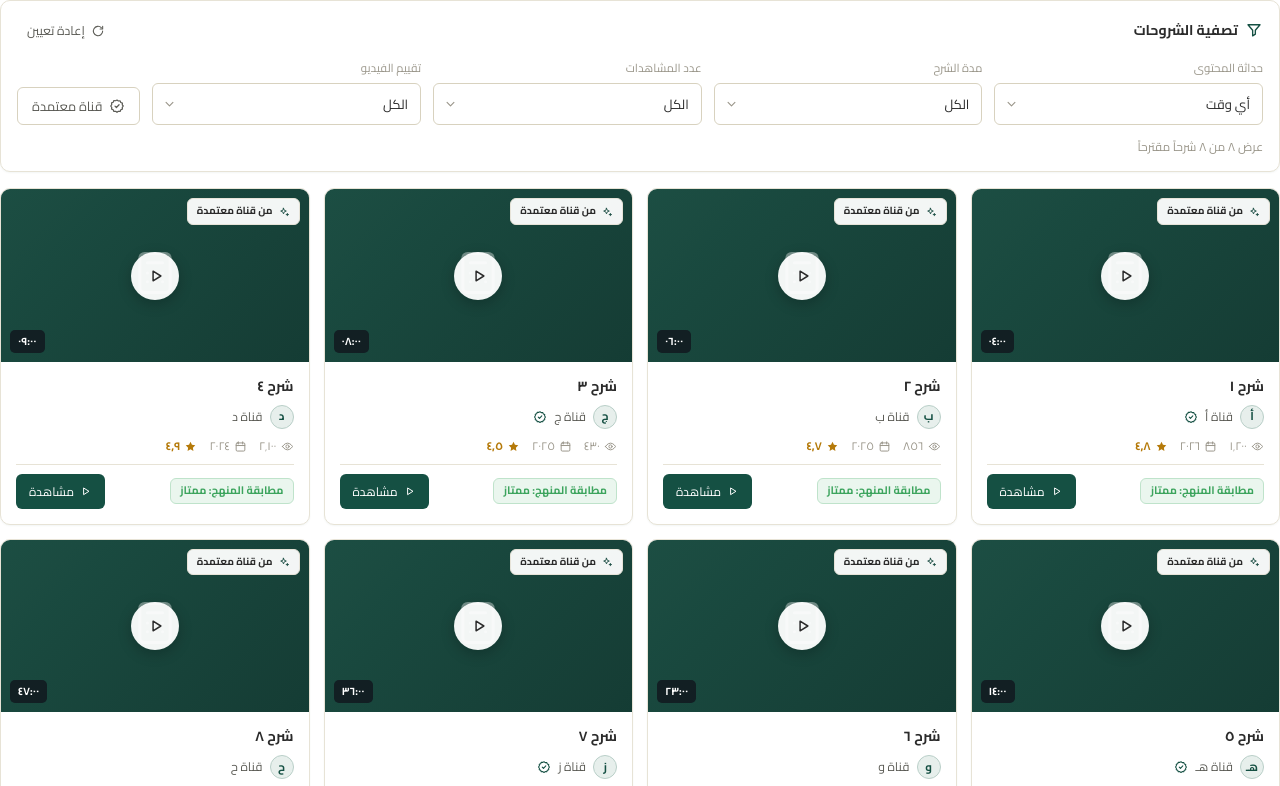
Test: resetting filters restores every card
The image size is (1280, 786).
Select "أقل من ١٠ دقائق" in the dropdown labelled "مدة الشرح" at (848, 104), box [714,83,982,125]
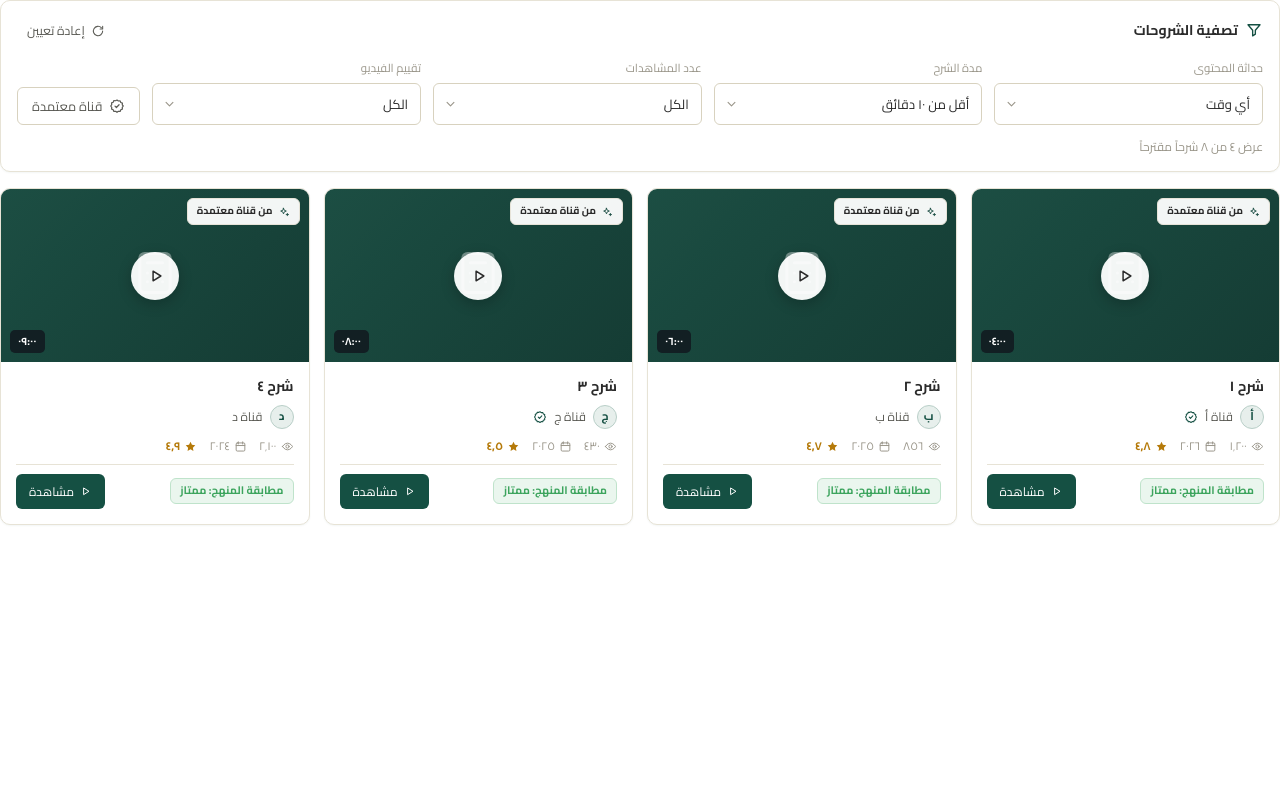
Click the button "إعادة تعيين" at (66, 30), box [17,15,115,46]
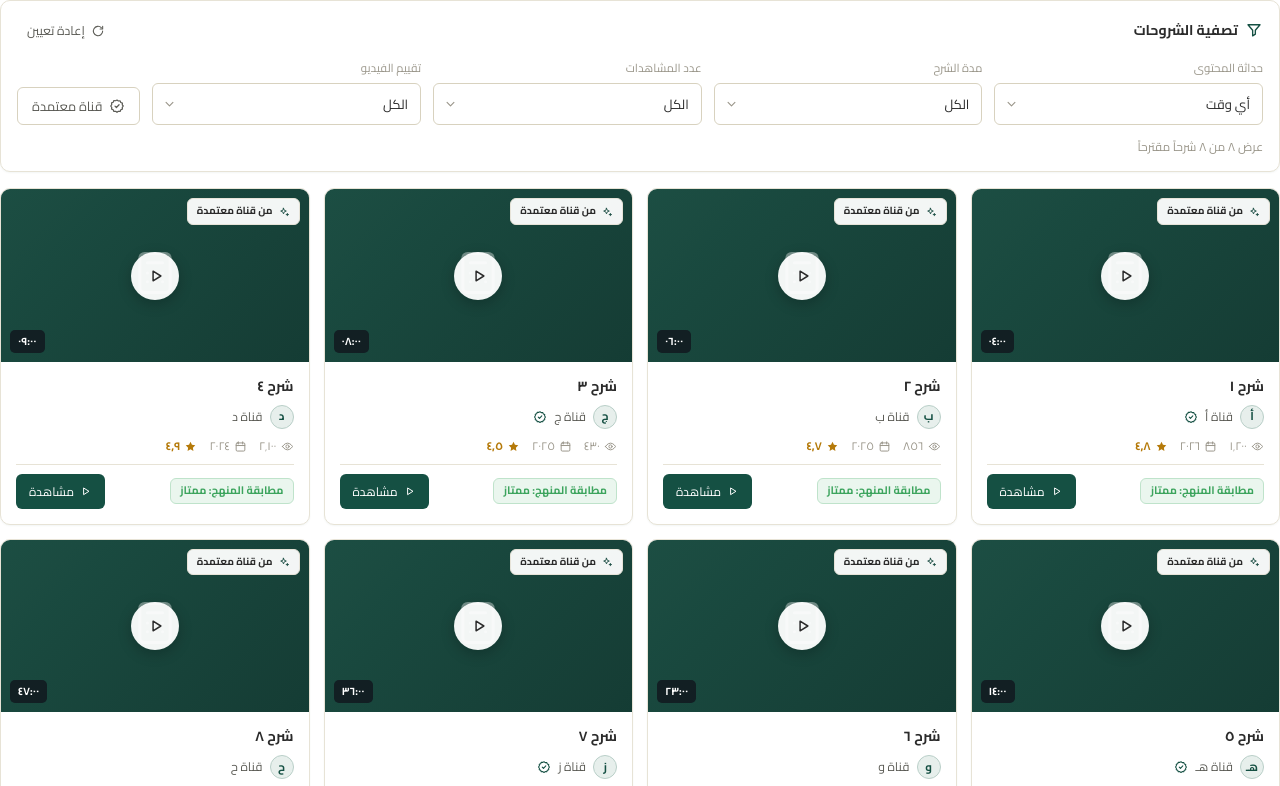
Now the text "عرض ٨ من ٨ شرحاً مقترحاً" is shown, box [1138,135,1263,158]
